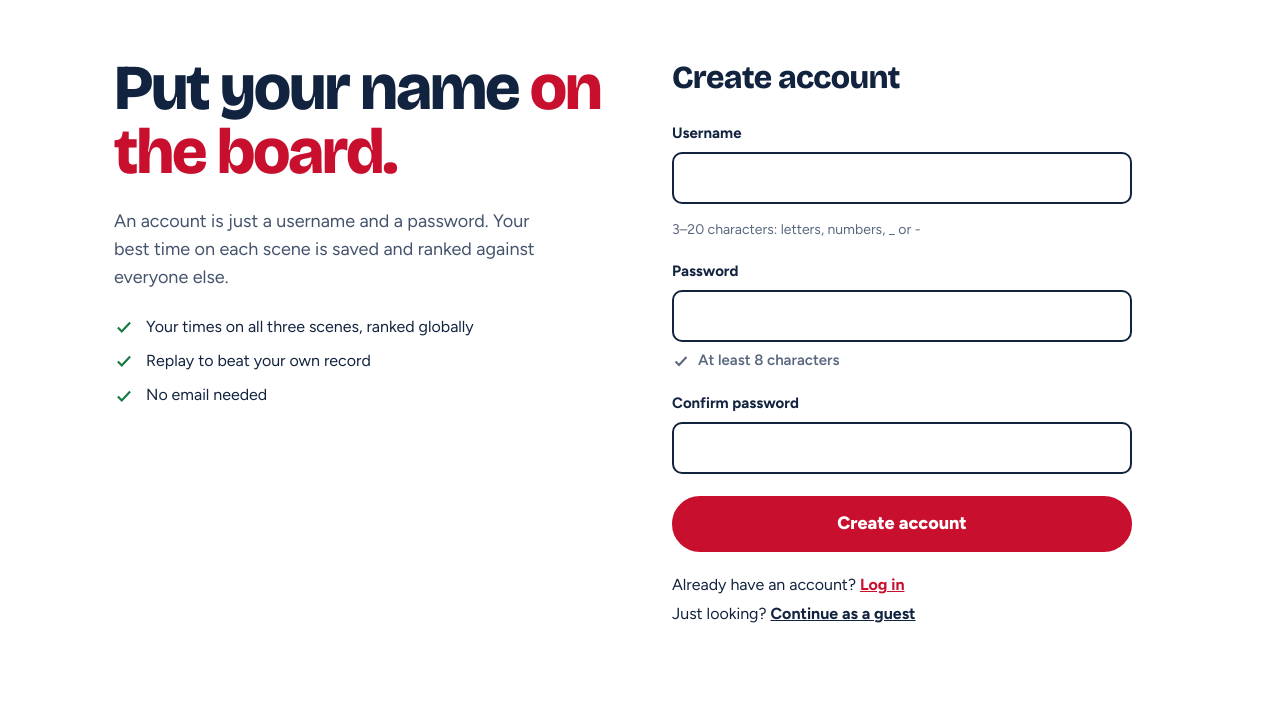
Test: <Register> › tells the player their username is available while they type
The image size is (1280, 720).
Type "pompom" into the field labelled "Username". click: (902, 178)
box: [672,152,1132,204]
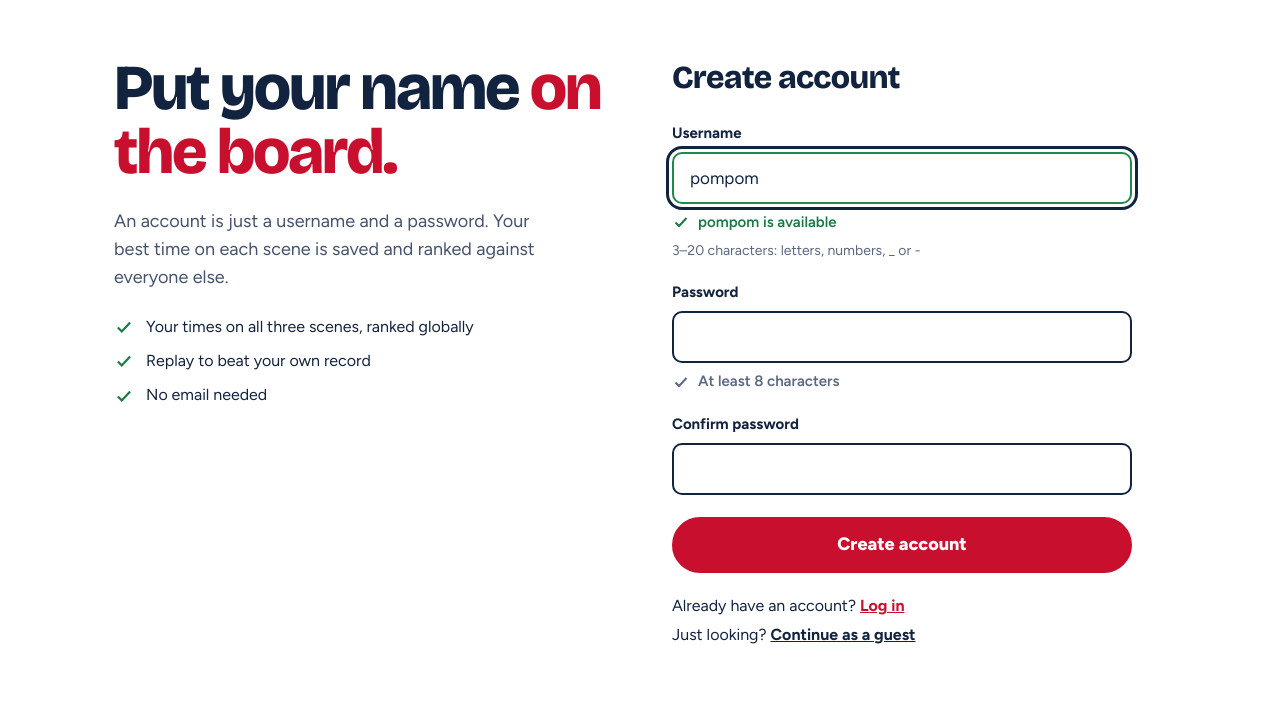
Result: the text "pompom is available" is shown at [698,212,836,233]
